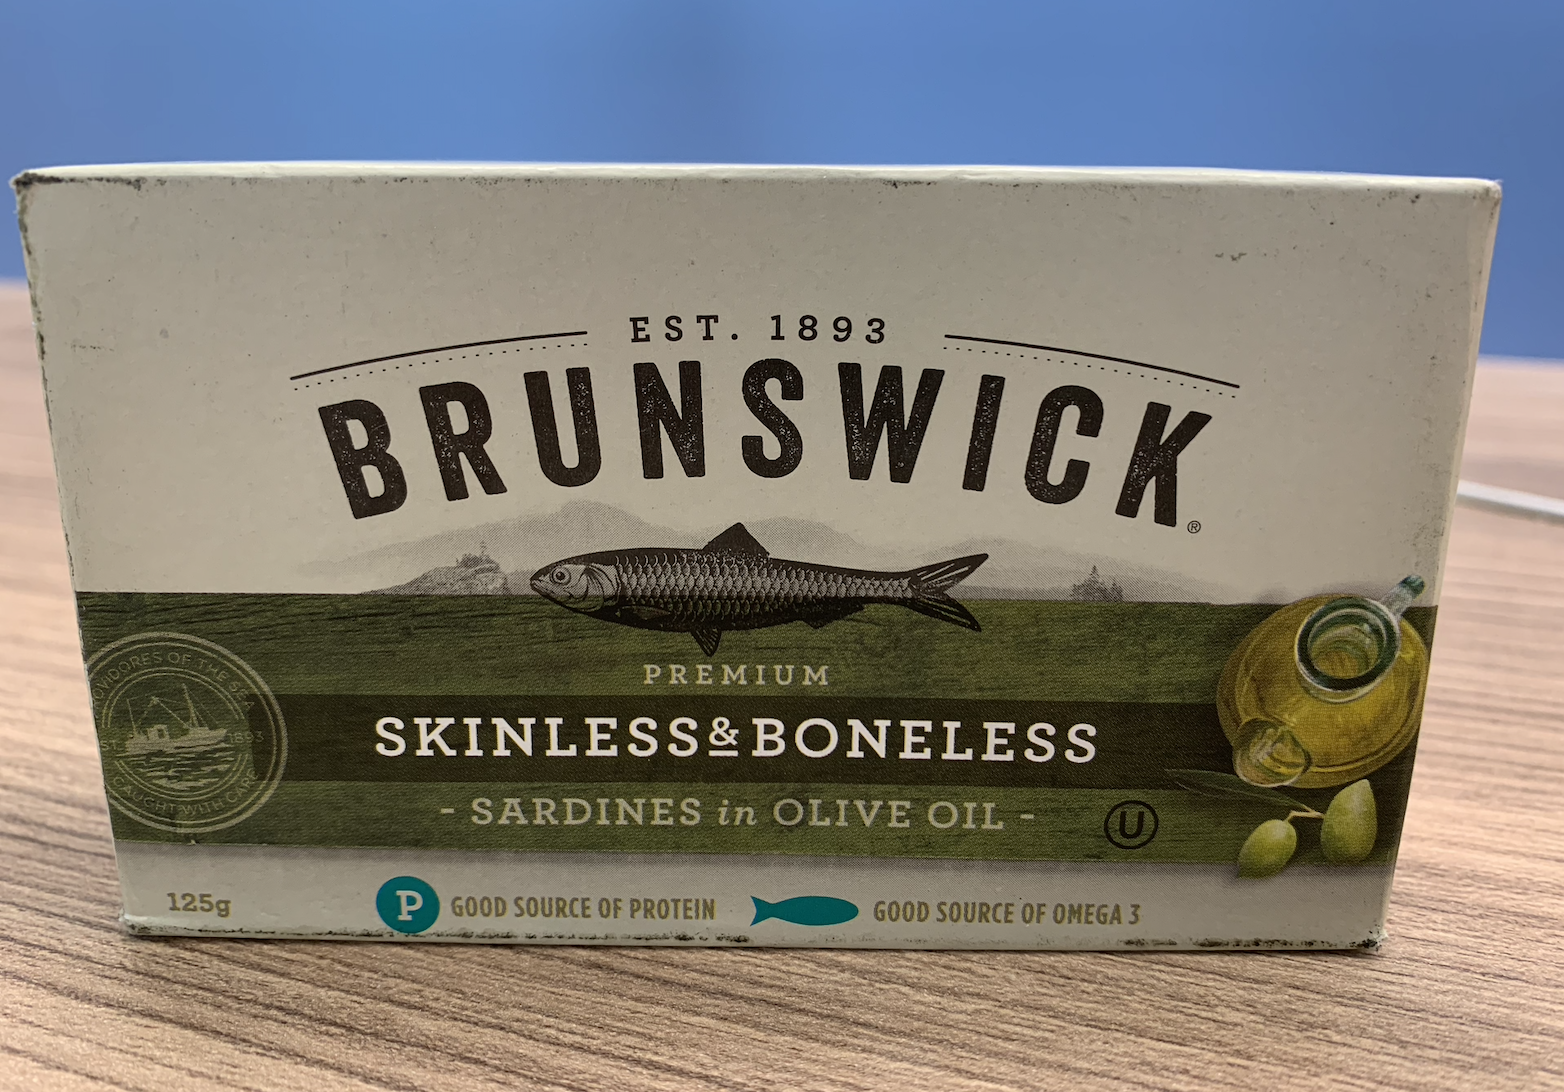sardines_150g: (92, 214, 1394, 926)
